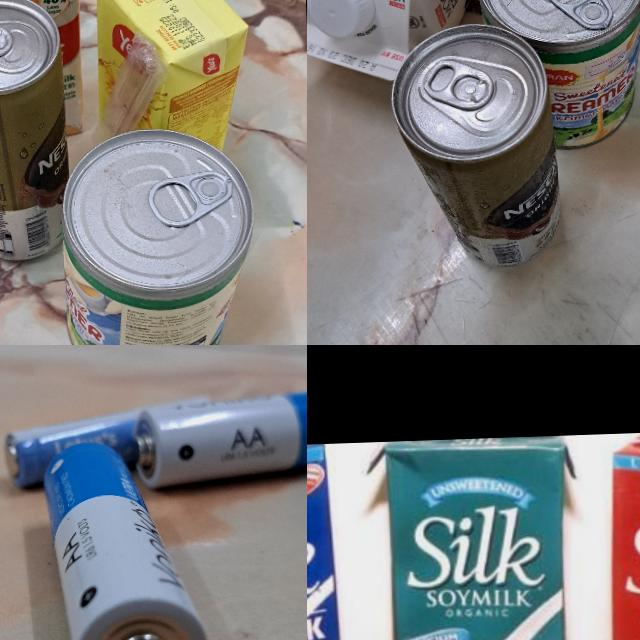aba de lata: (147, 168, 236, 228), (419, 58, 496, 111), (545, 0, 614, 32), (0, 22, 14, 60)
bateria: (42, 437, 210, 640), (3, 393, 218, 488), (132, 384, 307, 487)
caixinha: (381, 434, 574, 640), (93, 0, 253, 158), (307, 0, 567, 86), (0, 0, 84, 144)
lata: (59, 123, 258, 345), (389, 21, 562, 272), (478, 0, 640, 155), (0, 0, 74, 263)
